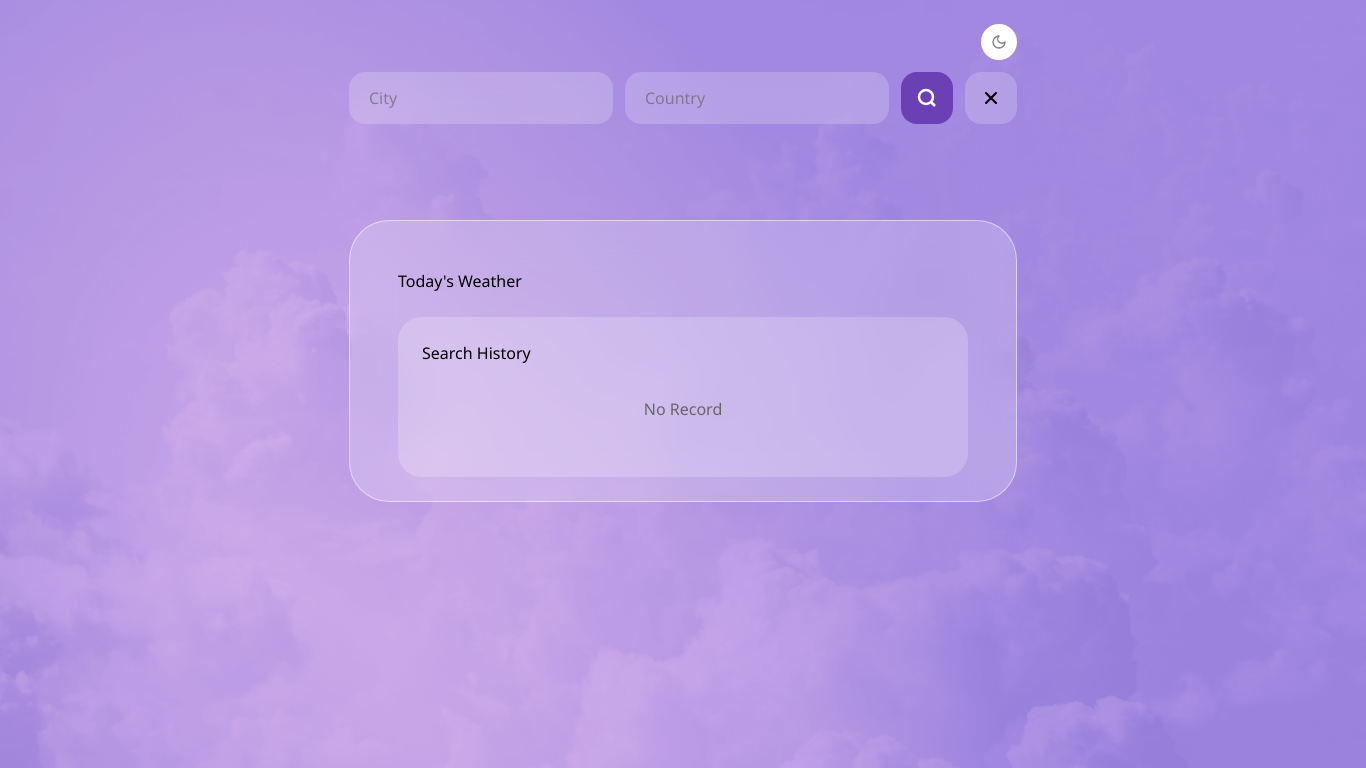
Test: search › shows an error when the geocoding request fails
In the field labelled "City": (481, 98) [349,72,613,124], type "Tokyo"
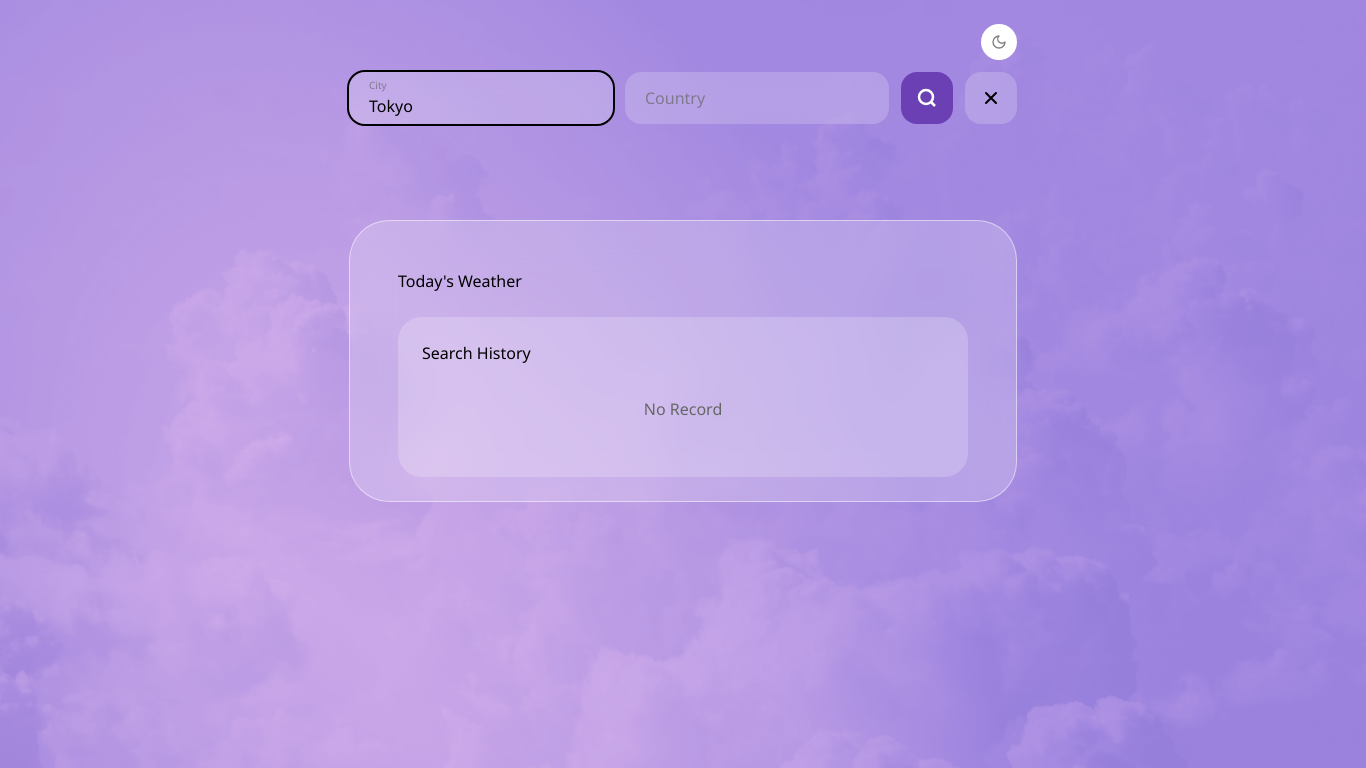
Click the button named "Search": (927, 98) [901,72,953,124]
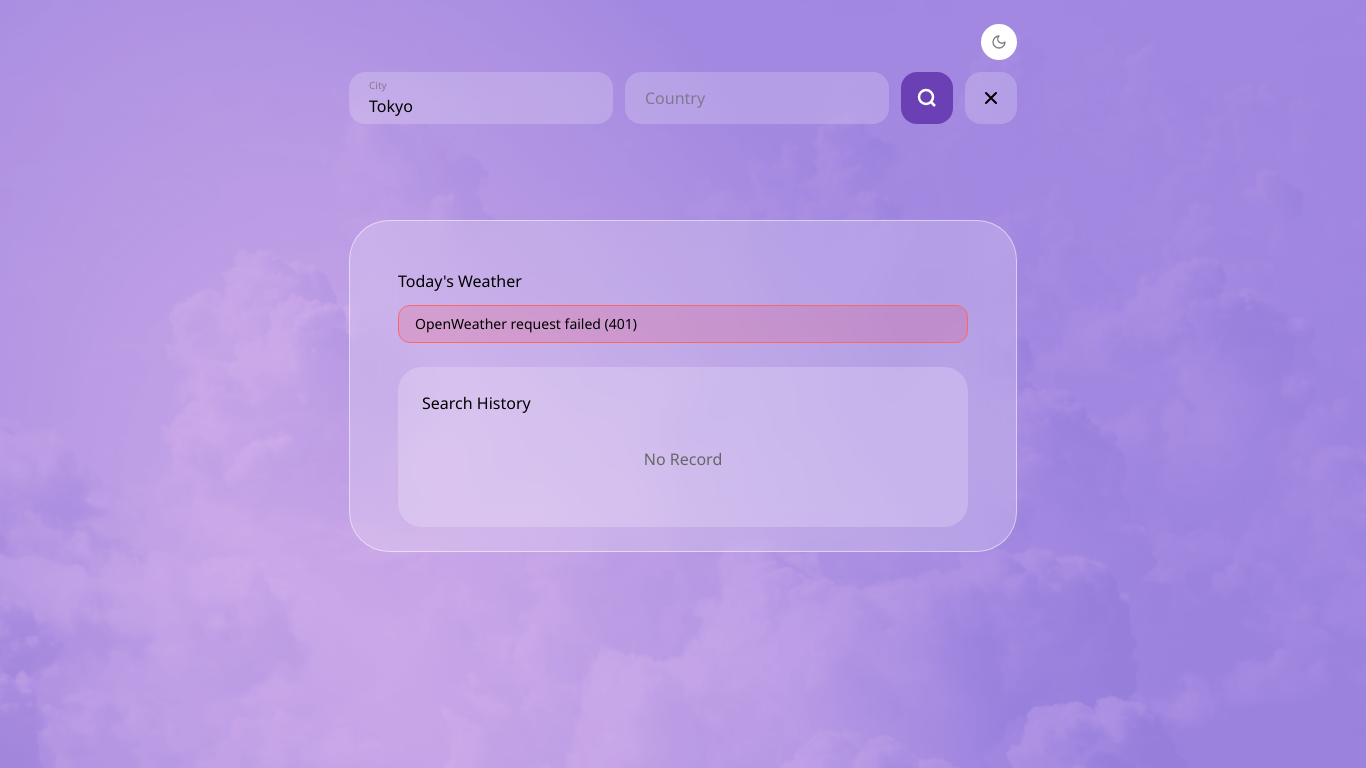
expect the text "No Record" is shown: met, box [644,448,722,470]
expect the message reads "OpenWeather request failed (401)": met, box [415,314,637,333]
